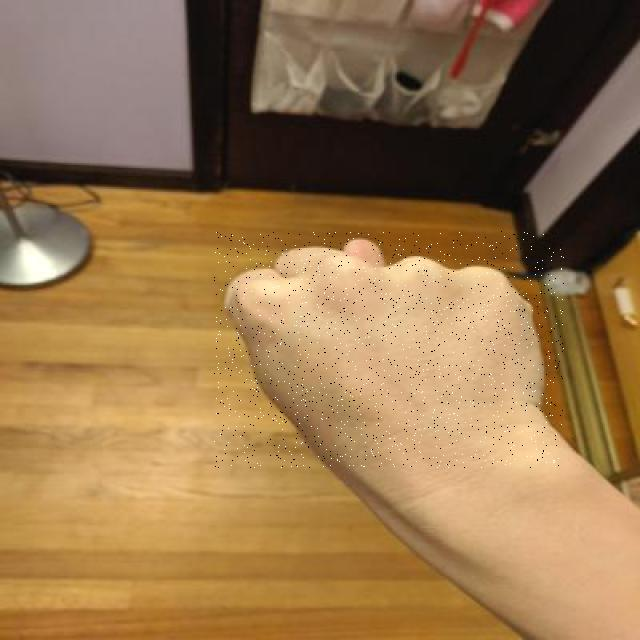N: (214, 231, 564, 468)
